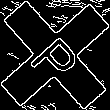P_NE: (24, 24, 86, 86)
